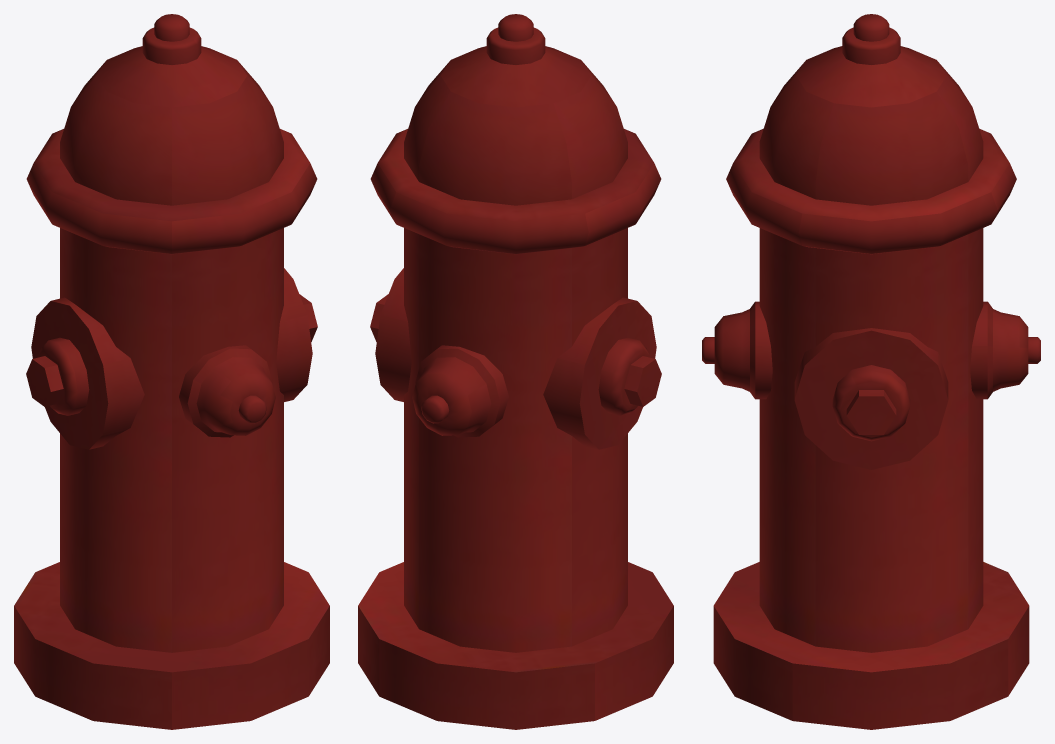
The model's file is poteau_incendie.glb.
The picture shows the model from 3 angles, left to right: view 1: azimuth 30°, elevation 25°; view 2: azimuth 150°, elevation 25°; view 3: azimuth 270°, elevation 25°; orthographic projection.
Parts seen in each view (by area): view 1: Fire_Hydrant; view 2: Fire_Hydrant; view 3: Fire_Hydrant.
Part boxes in pixels (x1,y1,x2,y2): Fire_Hydrant: (14,14,329,729); Fire_Hydrant: (358,14,673,729); Fire_Hydrant: (702,14,1040,729).
Size of the model in its own units: 0.2221 by 0.5 by 0.2384.
Materials: 1 (1 with a texture image).
